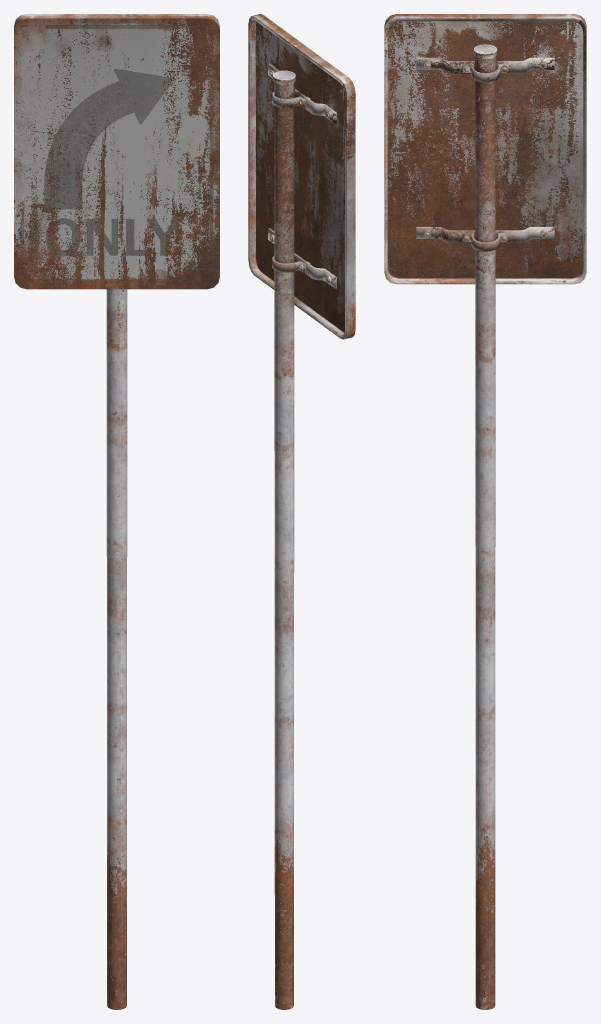
File: SM_Road_Sign.fbx
3 views of the same model, side by side, from view 1: azimuth 90°, elevation 25°; view 2: azimuth 210°, elevation 25°; view 3: azimuth 270°, elevation 25° (orthographic). The views are drawn at different scales.
Parts seen in each view (by area): view 1: SM_Road_Sign_LOD0; view 2: SM_Road_Sign_LOD0; view 3: SM_Road_Sign_LOD0.
Boxes of the visible parts, bbox=[...] form: SM_Road_Sign_LOD0: bbox=[14, 14, 219, 1009]; SM_Road_Sign_LOD0: bbox=[248, 14, 355, 1009]; SM_Road_Sign_LOD0: bbox=[384, 14, 586, 1009].
Size of the model in its own units: 9.98 by 51.8 by 277.
